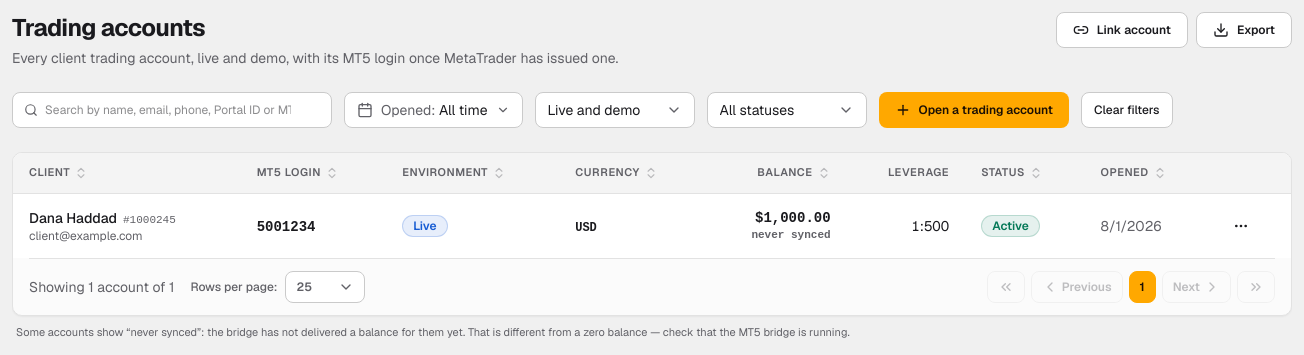
it: trading accounts — the write actions are permission-gated › offers opening an account, but not moving money, on trading.create
Expected: the text "client@example.com" is shown, [29,228,143,244]
Expected: the button "Open a trading account" is shown, [879,92,1069,128]
The row menu offers "Set product" (29 Sep 2026) — and still no money action.
Click the button named "actions for account" at (1241, 226), box [1225,210,1257,242]
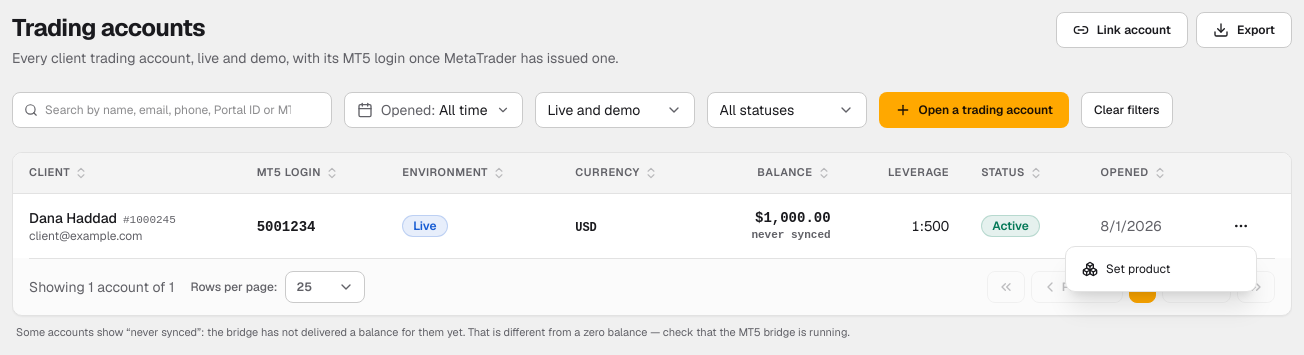
Now the menu item "Set product" is shown, box [1082,261,1170,277]
